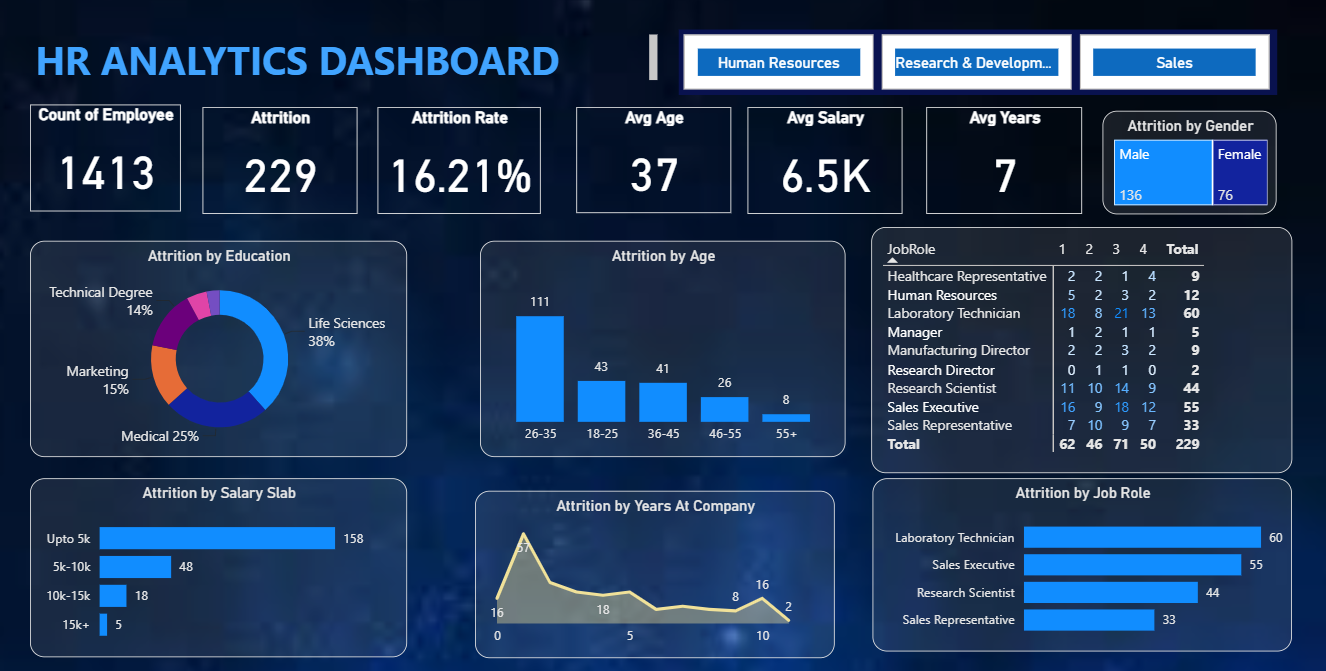

This screenshot's page, from the dashboard's own definition file:
{"tool":"powerbi","page":{"name":"Page 1","canvas":[1280,720],"ordinal":0},"visuals":[{"type":"card","title":"Count of Employee","fields":{"Values":["CountNonNull(HR_Analytics.EmpID)"]},"box":[28.8,142.7,145.5,102.9],"z":0},{"type":"card","title":"Attrition","fields":{"Values":["Sum(HR_Analytics.AttritionCount)"]},"box":[195.3,144.7,149.4,103.5],"z":1000},{"type":"card","title":"Attrition Rate","fields":{"Values":["HR_Analytics.AttritionRate"]},"box":[364.7,144.7,157.6,103.5],"z":2000},{"type":"card","title":"Avg Age","fields":{"Values":["Avg(HR_Analytics.Age)"]},"box":[556.5,144.7,149.4,102.4],"z":3000},{"type":"card","title":"Avg Salary","fields":{"Values":["Avg(HR_Analytics.MonthlyIncome)"]},"box":[721.2,144.7,149.4,103.5],"z":4000},{"type":"card","title":"Avg Years","fields":{"Values":["Avg(HR_Analytics.YearsAtCompany)"]},"box":[894.1,144.7,150.6,103.5],"z":5000},{"type":"donutChart","title":"Attrition by Education","fields":{"Category":["HR_Analytics.EducationField"],"Y":["Sum(HR_Analytics.AttritionCount)"]},"box":[28.8,274.4,363.6,208.6],"z":6000},{"type":"areaChart","title":"Attrition by Years At Company","fields":{"Category":["HR_Analytics.YearsAtCompany"],"Y":["Sum(HR_Analytics.AttritionCount)"]},"box":[458.3,514.6,347.2,161.9],"z":7000},{"type":"pivotTable","title":"Job","fields":{"Rows":["HR_Analytics.JobRole"],"Columns":["HR_Analytics.JobSatisfaction"],"Values":["Sum(HR_Analytics.AttritionCount)"]},"box":[841.2,260.7,406.2,237.4],"z":8000},{"type":"barChart","title":"Attrition by Salary Slab","fields":{"Category":["HR_Analytics.SalarySlab"],"Y":["Sum(HR_Analytics.AttritionCount)"]},"box":[28.8,503.6,363.6,172.9],"z":9000},{"type":"barChart","title":"Attrition by Job Role","fields":{"Category":["HR_Analytics.JobRole"],"Y":["Sum(HR_Analytics.AttritionCount)"]},"box":[842.5,503.6,404.8,167.4],"z":10000},{"type":"columnChart","title":"Attrition by Age","fields":{"Category":["HR_Analytics.AgeGroup"],"Y":["Sum(HR_Analytics.AttritionCount)"]},"box":[463.8,274.4,352.7,208.6],"z":11000},{"type":"treemap","title":"Attrition by Gender","fields":{"Group":["HR_Analytics.Gender"],"Values":["Sum(HR_Analytics.AttritionCount)"]},"box":[1063.5,148.2,168.2,100],"z":12000},{"type":"advancedSlicerVisual","fields":{"Values":["HR_Analytics.Department"]},"box":[654.5,70,577.7,63.1],"z":13000},{"type":"textbox","box":[28.8,70,610.6,64.5],"z":14000},{"type":"qnaVisual","box":[642.2,0,48,12.3],"z":15000}]}

Visuals, with their boxes on the page's 1280x720 design canvas (x1, y1, x2, y2). These are canvas units, not pixel positions in the 1326x671 screenshot, which may show the page scaled, cropped or inside an application window:
"Count of Employee" card: bbox(29, 143, 174, 246)
"Attrition" card: bbox(195, 145, 345, 248)
"Attrition Rate" card: bbox(365, 145, 522, 248)
"Avg Age" card: bbox(556, 145, 706, 247)
"Avg Salary" card: bbox(721, 145, 871, 248)
"Avg Years" card: bbox(894, 145, 1045, 248)
"Attrition by Education" donutChart: bbox(29, 274, 392, 483)
"Attrition by Years At Company" areaChart: bbox(458, 515, 806, 676)
"Job" pivotTable: bbox(841, 261, 1247, 498)
"Attrition by Salary Slab" barChart: bbox(29, 504, 392, 676)
"Attrition by Job Role" barChart: bbox(842, 504, 1247, 671)
"Attrition by Age" columnChart: bbox(464, 274, 816, 483)
"Attrition by Gender" treemap: bbox(1064, 148, 1232, 248)
advancedSlicerVisual - HR_Analytics.Department: bbox(654, 70, 1232, 133)
textbox: bbox(29, 70, 639, 134)
qnaVisual: bbox(642, 0, 690, 12)
